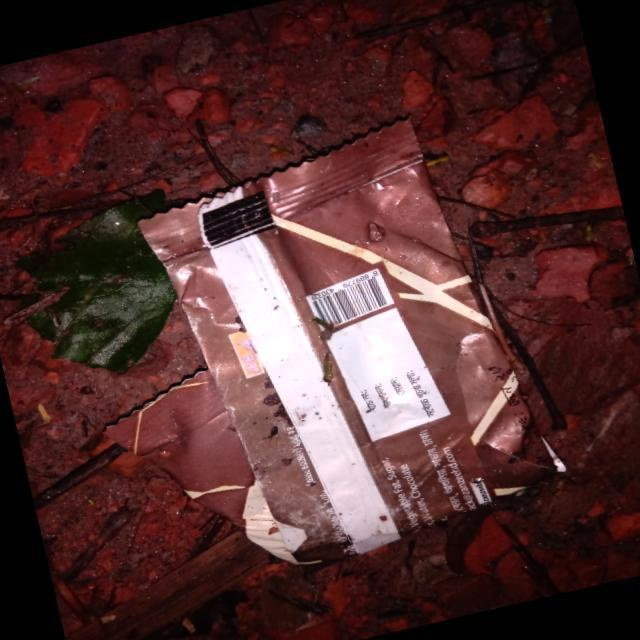packet: (170, 120, 547, 573)
